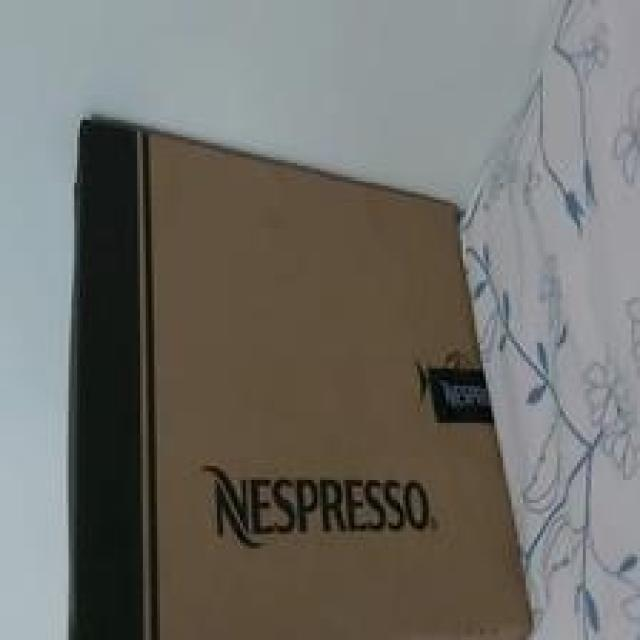Cardboard: (69, 110, 535, 640)
